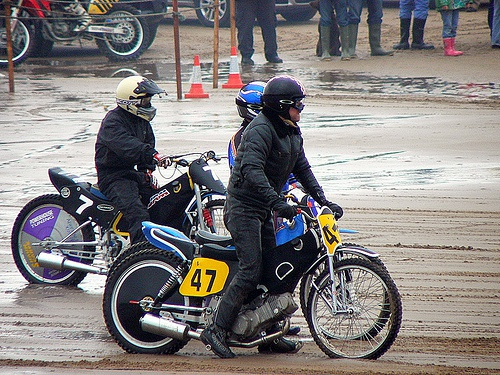non-vehicle: (99, 196, 410, 370), (10, 149, 231, 290), (0, 0, 151, 69)
